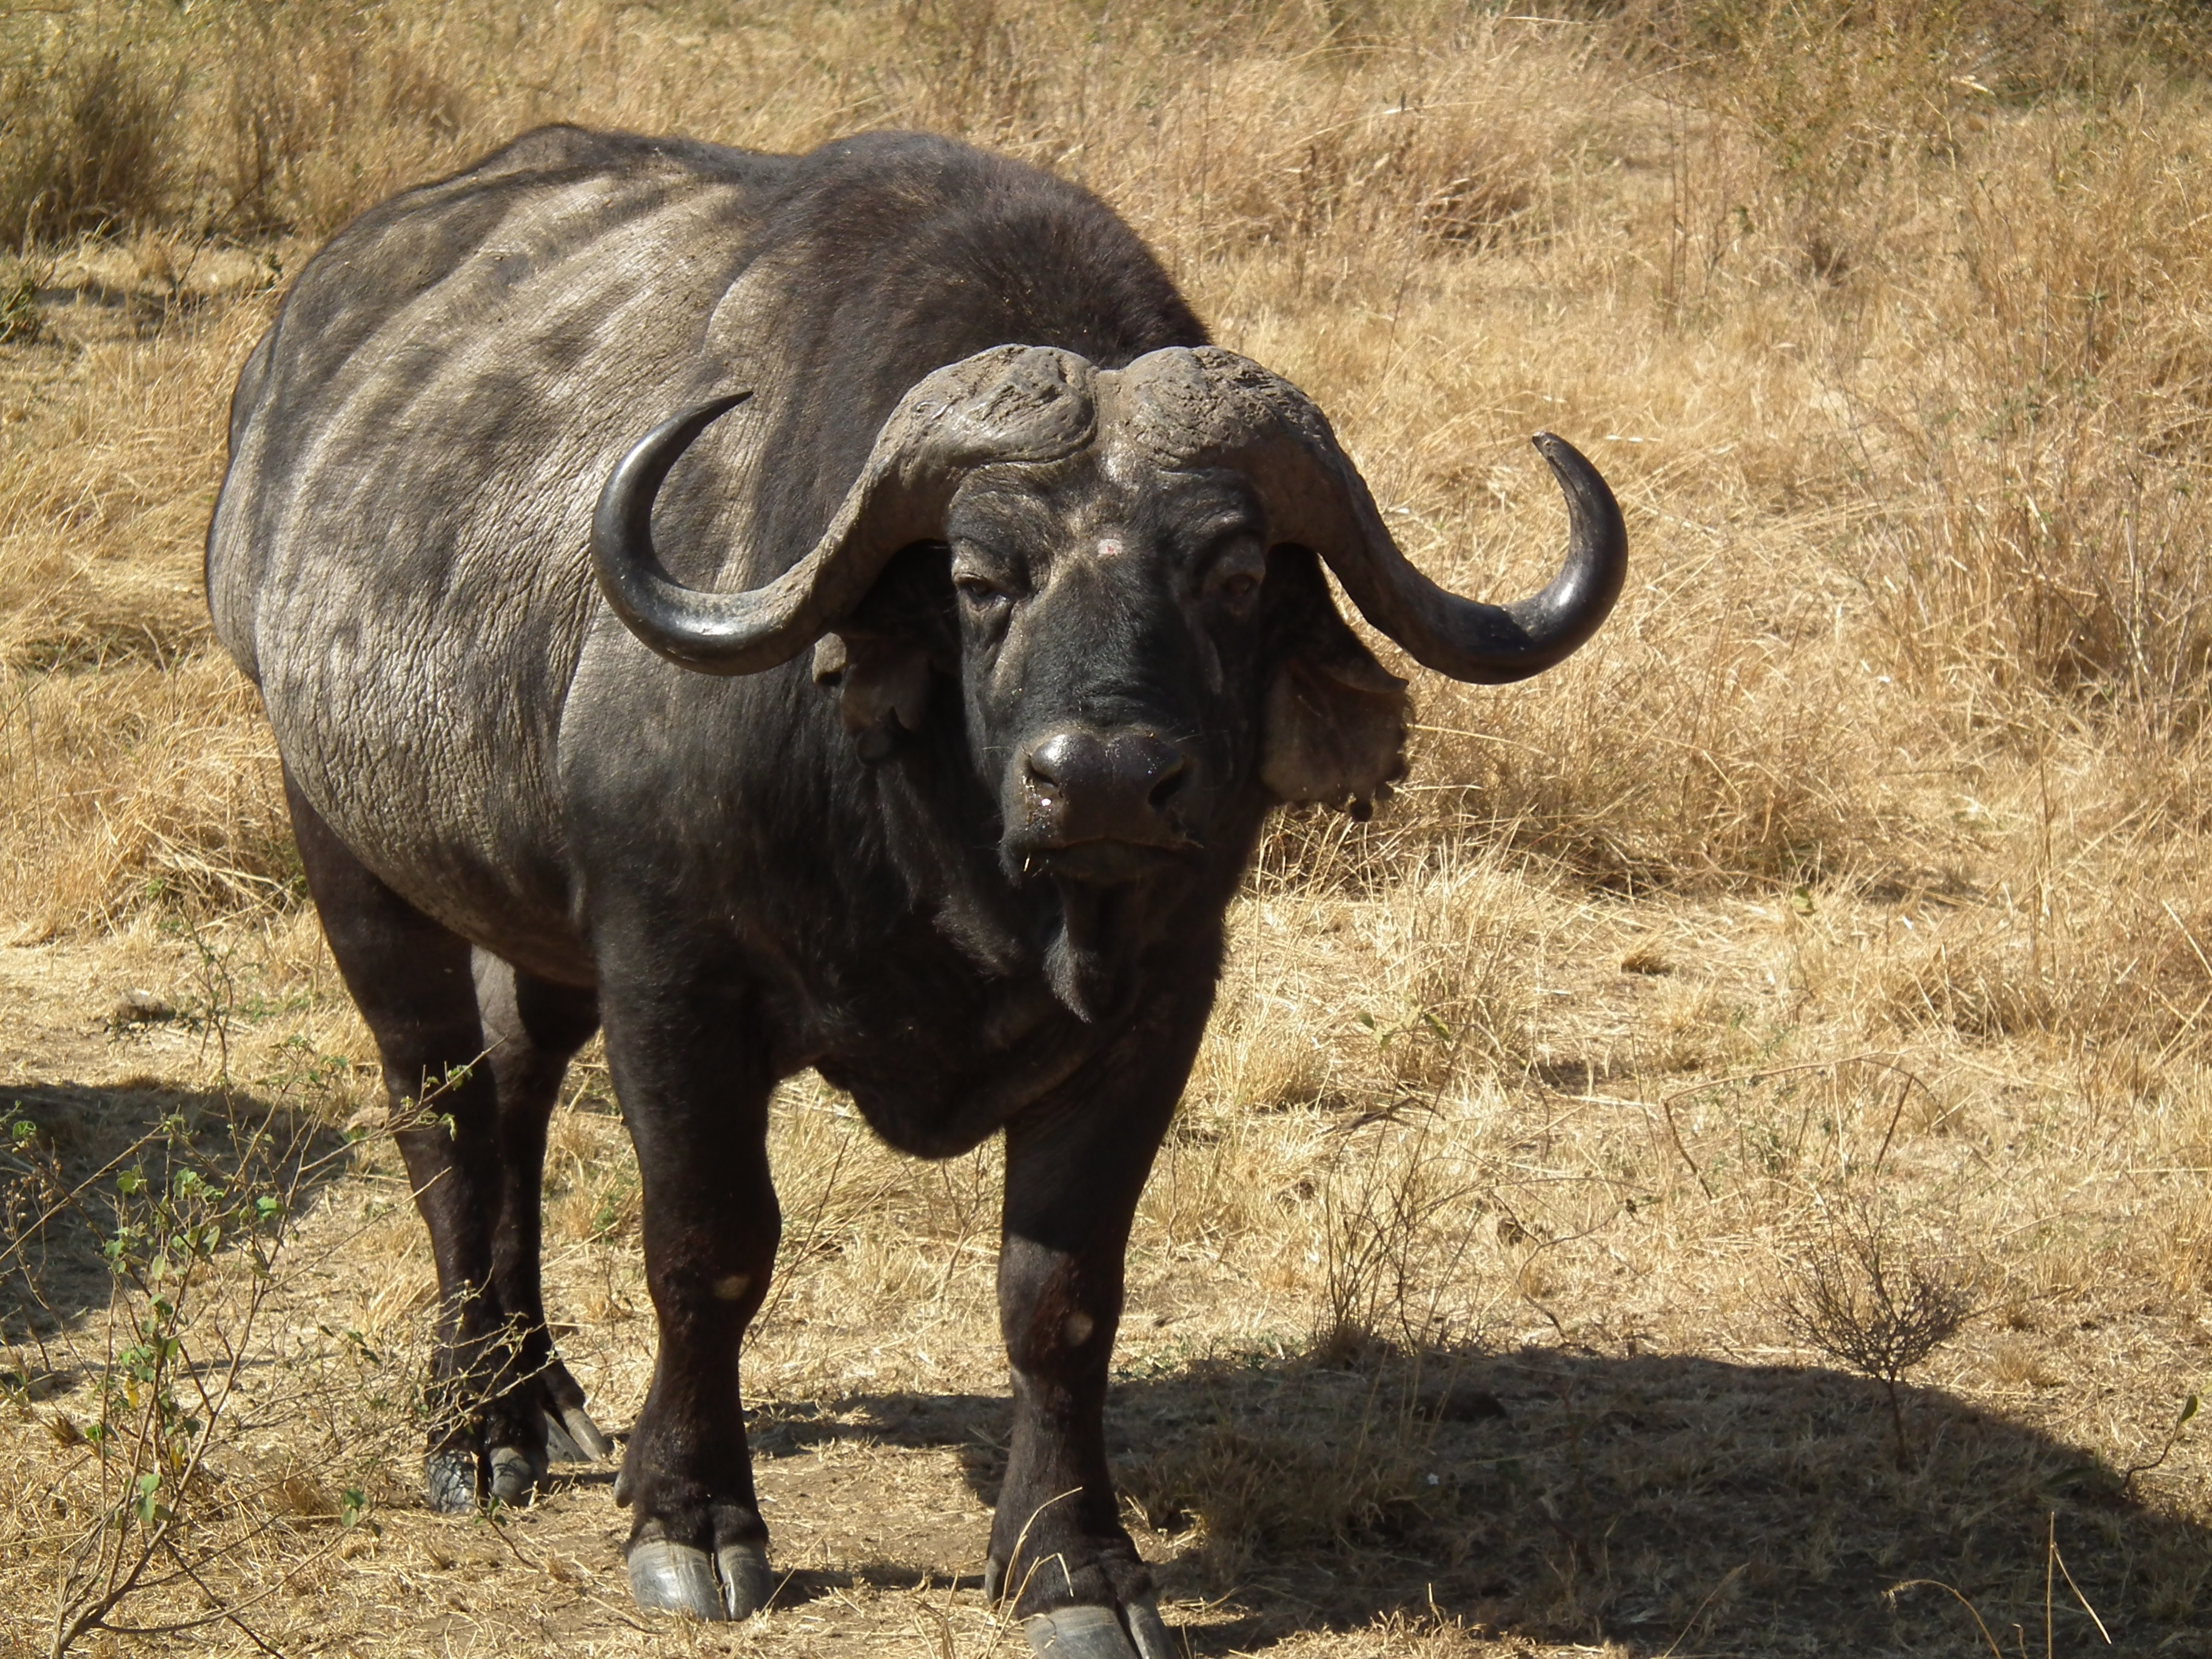buffalo: (192, 110, 1635, 1647)
